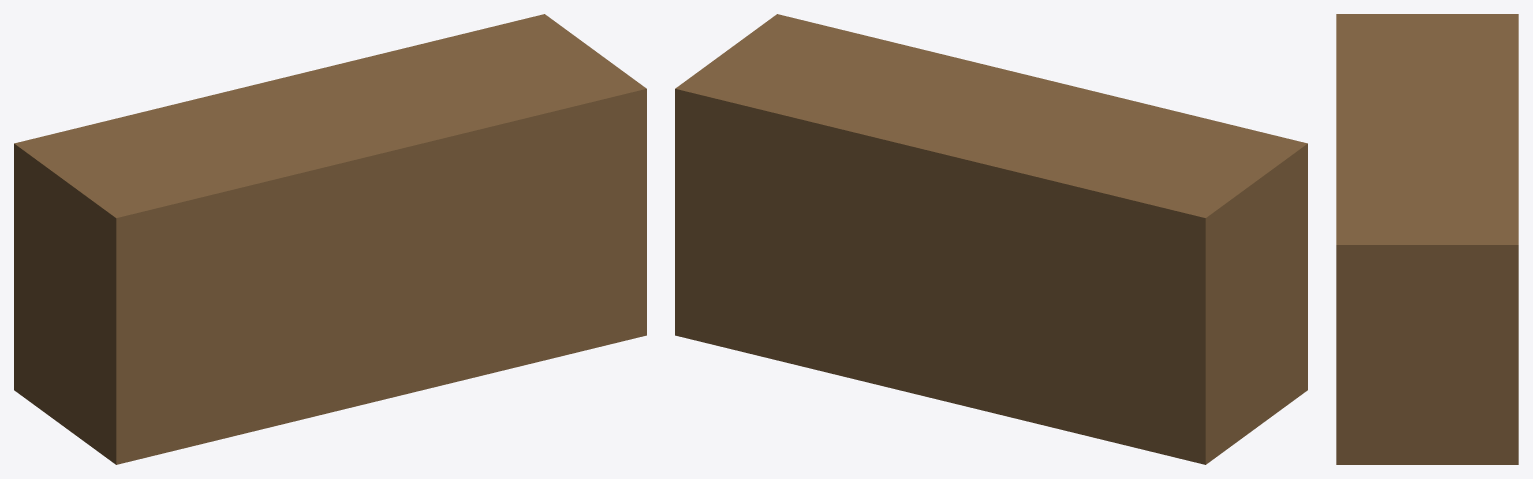
File: bench.L0.28b2a903.glb
3 renders of one model, left to right at view 1: azimuth 30°, elevation 25°; view 2: azimuth 150°, elevation 25°; view 3: azimuth 270°, elevation 25°, orthographic. The views are drawn at different scales.
Visible parts, largest first — view 1: A-FURNITURE-BENCH; view 2: A-FURNITURE-BENCH; view 3: A-FURNITURE-BENCH.
Part boxes in pixels (x1=…): A-FURNITURE-BENCH: x1=14, y1=14, x2=646, y2=464; A-FURNITURE-BENCH: x1=675, y1=14, x2=1307, y2=464; A-FURNITURE-BENCH: x1=1336, y1=14, x2=1518, y2=464.
Bounding box in the file's own units: 1.8 × 0.7999 × 0.5999.
